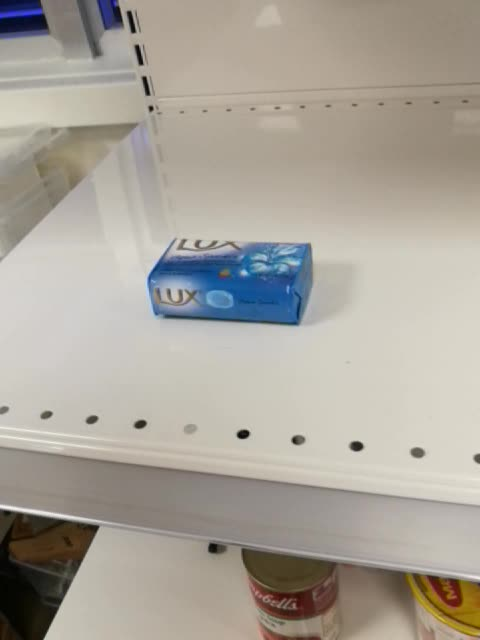soap: (145, 238, 314, 328)
